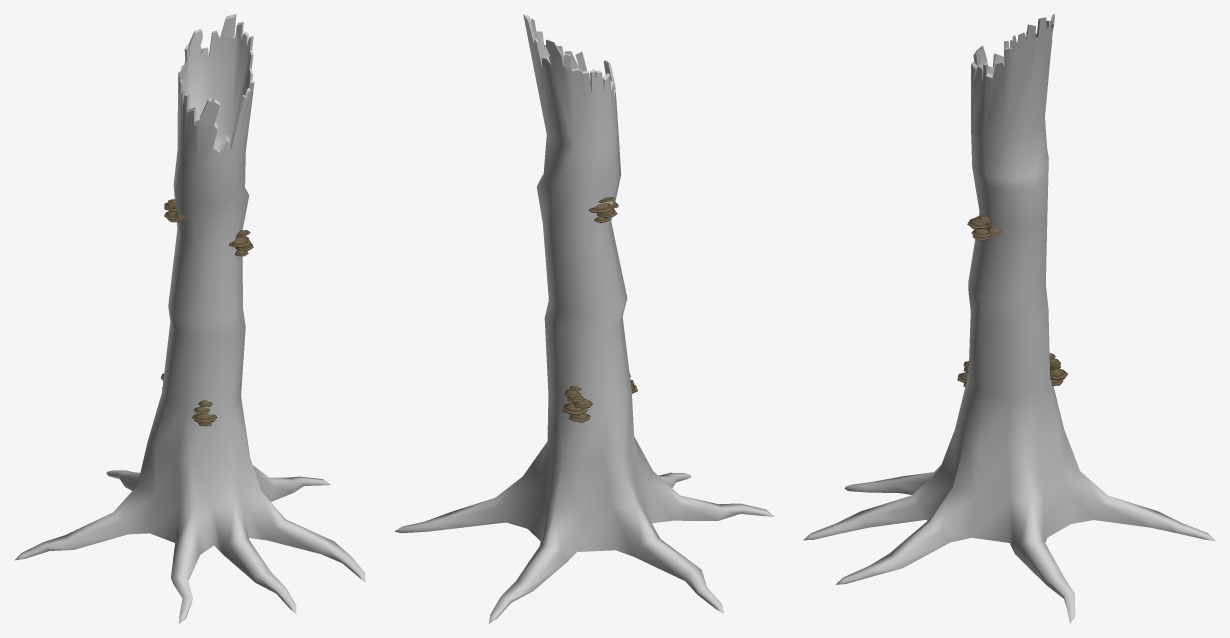
The model's file is Trunk2.fbx.
The picture shows the model from 3 angles, left to right: view 1: azimuth 30°, elevation 25°; view 2: azimuth 150°, elevation 25°; view 3: azimuth 270°, elevation 25°; orthographic projection. The views are drawn at different scales.
Visible parts, largest first — view 1: polySurface262; view 2: polySurface262; view 3: polySurface262.
Part boxes in pixels (x1,y1,x2,y2): polySurface262: (15,14,365,623); polySurface262: (394,14,773,623); polySurface262: (803,14,1215,623).
Bounding box in the file's own units: 3.66 × 5.64 × 3.85.
